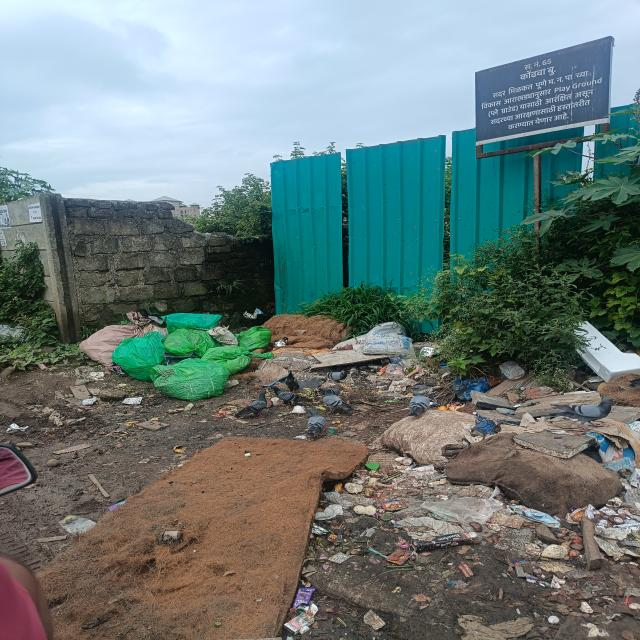garbage: (426, 328, 640, 509), (94, 314, 426, 397)
